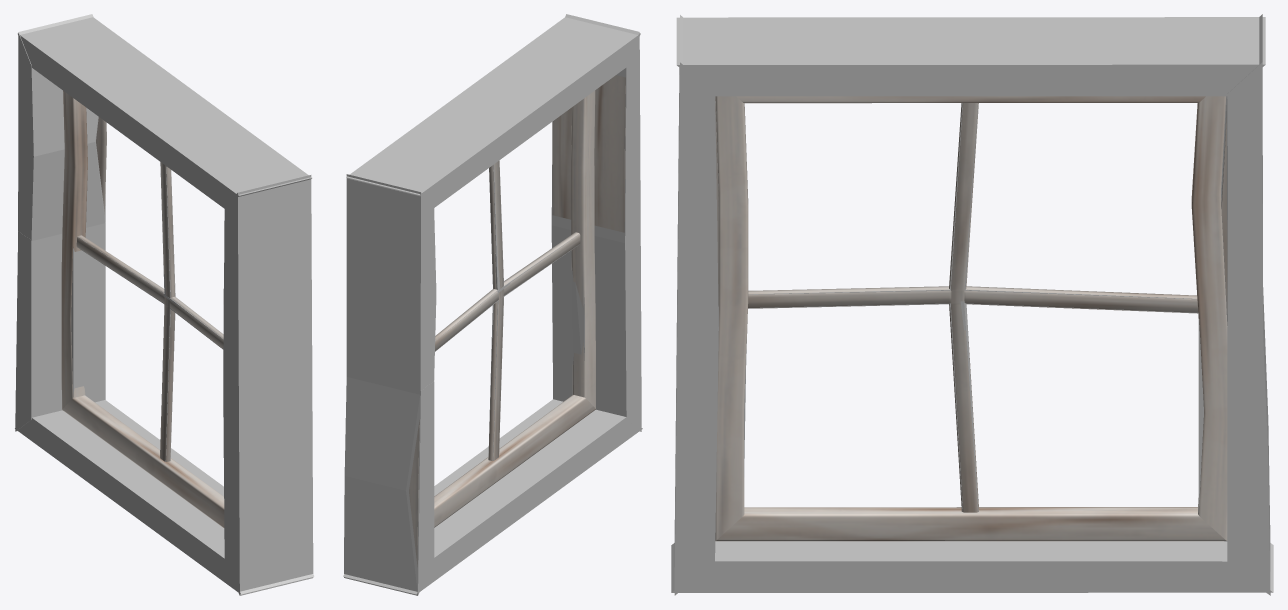
Rendered from SM_PropWindow01TypeC_2_1.fbx.
The picture shows the model from 3 angles, left to right: view 1: azimuth 30°, elevation 25°; view 2: azimuth 150°, elevation 25°; view 3: azimuth 270°, elevation 25°; orthographic projection. The views are drawn at different scales.
Parts seen in each view (by area): view 1: SM_PropWindow01TypeC_2_1_ConvexHulls, SM_PropWindow01TypeC_2_1; view 2: SM_PropWindow01TypeC_2_1_ConvexHulls, SM_PropWindow01TypeC_2_1; view 3: SM_PropWindow01TypeC_2_1_ConvexHulls, SM_PropWindow01TypeC_2_1.
Boxes of the visible parts, x1,y1,x2,y2 form: SM_PropWindow01TypeC_2_1_ConvexHulls: (15,14,314,595); SM_PropWindow01TypeC_2_1: (61,91,224,527); SM_PropWindow01TypeC_2_1_ConvexHulls: (343,14,642,595); SM_PropWindow01TypeC_2_1: (409,75,625,566); SM_PropWindow01TypeC_2_1_ConvexHulls: (671,14,1273,595); SM_PropWindow01TypeC_2_1: (715,96,1227,541).
Bounding box in the file's own units: 31.19 × 165 × 161.
Materials: 2 (1 with a texture image).
